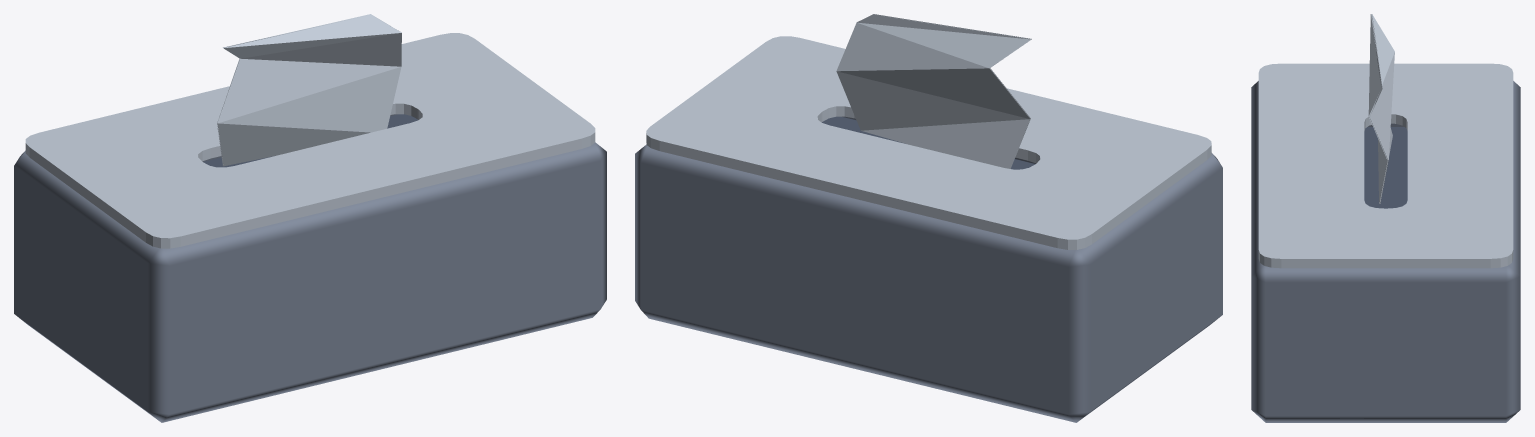
Rendered from 纸巾盒.glb.
3 renders of one model, left to right at view 1: azimuth 30°, elevation 25°; view 2: azimuth 150°, elevation 25°; view 3: azimuth 270°, elevation 25°, orthographic. The views are drawn at different scales.
Parts seen in each view (by area): view 1: decor-tissue-box; view 2: decor-tissue-box; view 3: decor-tissue-box.
Boxes of the visible parts, box(x1,y1,x2,y2) form: decor-tissue-box: box(14, 14, 606, 422); decor-tissue-box: box(635, 14, 1222, 422); decor-tissue-box: box(1251, 14, 1520, 422).
Bounding box in the file's own units: 0.23 × 0.145 × 0.13.
